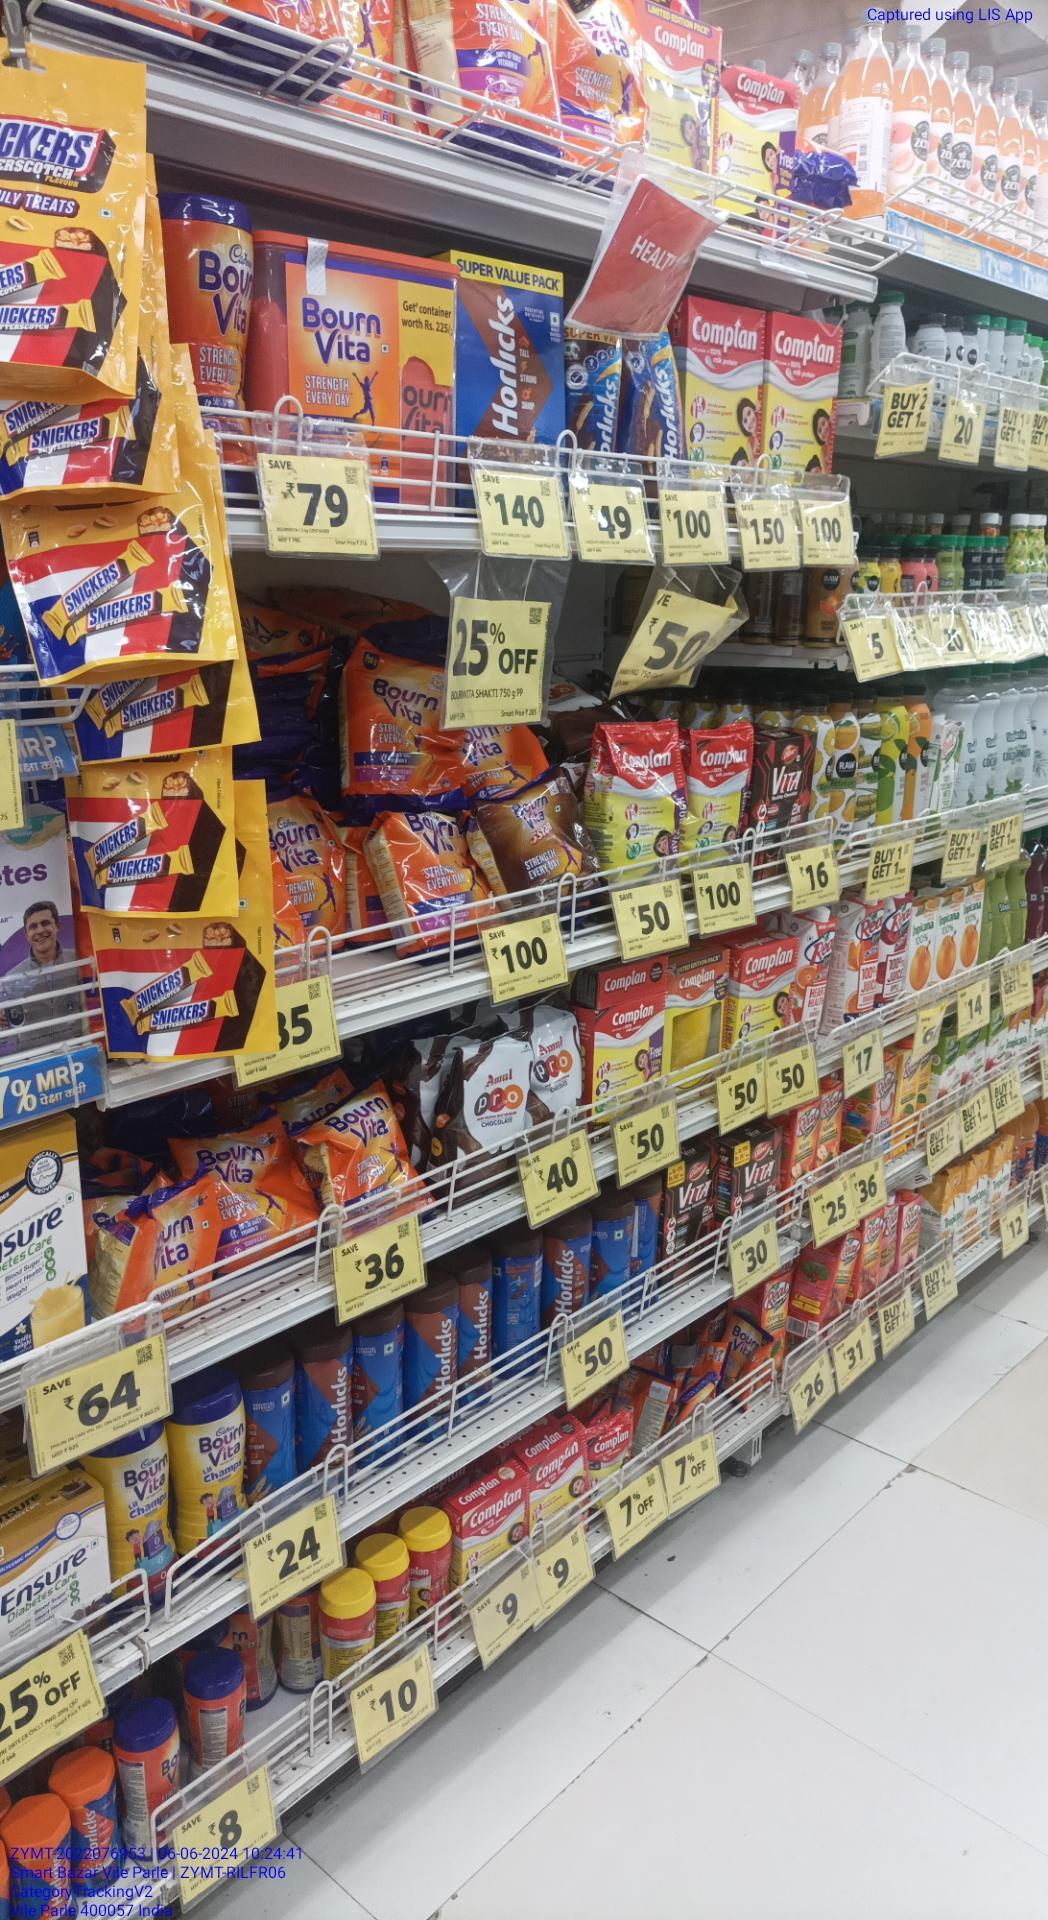BOURN_VITA_CHAMPS_500_G_JAR: (168, 1406, 244, 1539), (111, 1426, 164, 1605)
